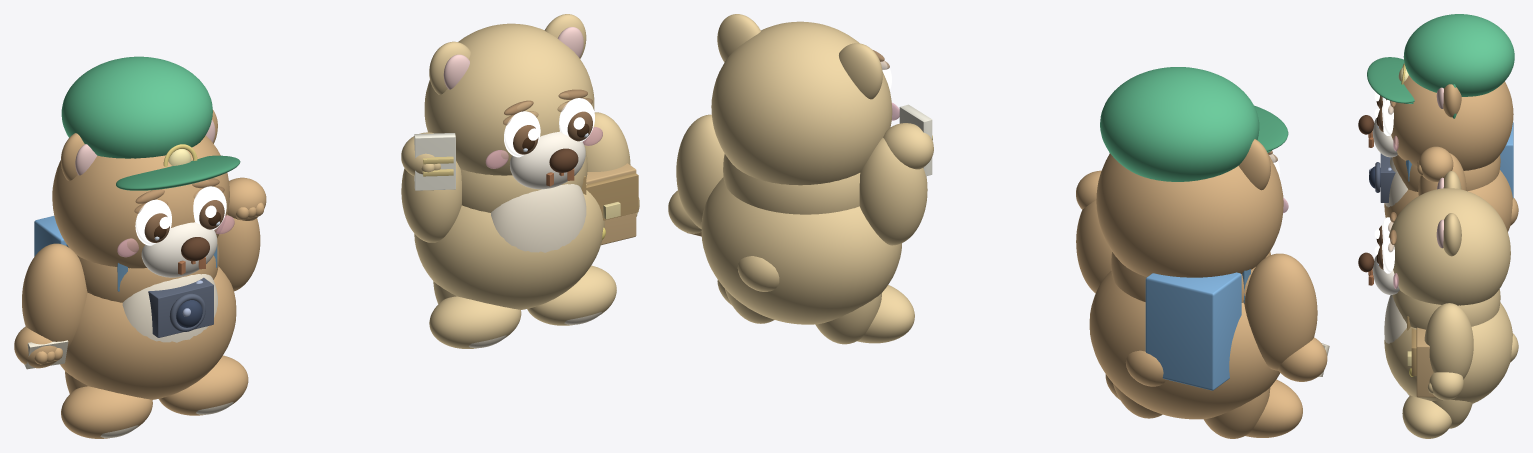
Rendered from quica-couple.glb.
3 renders of one model, left to right at view 1: azimuth 30°, elevation 25°; view 2: azimuth 150°, elevation 25°; view 3: azimuth 270°, elevation 25°, orthographic. The views are drawn at different scales.
Visible parts, largest first — view 1: Bhead, Acrown, Bbd_low, Abd_low, Ahead, AaL, Bbelly, BftL, AftL, BaL, AftR, BftR (+24 smaller); view 2: Bhead, Bbd_low, Ahead, Acrown, Abd_low, Abp, AaL, BaL, Bbd_up, BaR, AaR, BftL (+15 smaller); view 3: Bhead, Ahead, Acrown, Bbd_low, BaR, Bbd_up, BftR, Abd_low, Abrim, Abd_up, Bbag, AhR (+20 smaller).
Part boxes in pixels (box(x1,y1,x2,y2)): Bhead: box(424, 23, 594, 175); Acrown: box(61, 56, 212, 158); Bbd_low: box(414, 184, 604, 309); Abd_low: box(60, 266, 236, 399); Ahead: box(52, 135, 229, 268); AaL: box(22, 243, 87, 349); Bbelly: box(491, 184, 586, 252); BftL: box(429, 296, 521, 348); AftL: box(61, 386, 152, 438); BaL: box(401, 161, 461, 242); AftR: box(159, 355, 248, 415); BftR: box(527, 265, 616, 325); Bhead: box(711, 21, 892, 185); Bbd_low: box(701, 177, 901, 324); Ahead: box(1096, 153, 1283, 277); Acrown: box(1100, 67, 1259, 181); Abd_low: box(1089, 271, 1279, 419); Abp: box(1145, 272, 1241, 390); AaL: box(1244, 253, 1317, 370); BaL: box(859, 138, 927, 245); Bbd_up: box(723, 154, 860, 214); BaR: box(676, 114, 724, 228); AaR: box(1076, 200, 1112, 293); BftL: box(857, 285, 914, 343); Bhead: box(1389, 188, 1510, 305); Ahead: box(1386, 75, 1513, 170); Acrown: box(1403, 14, 1514, 96); Bbd_low: box(1384, 302, 1512, 403); BaR: box(1424, 303, 1473, 379); Bbd_up: box(1392, 289, 1500, 329); BftR: box(1402, 395, 1451, 438); Abd_low: box(1384, 170, 1512, 231); Abrim: box(1367, 57, 1414, 103); Abd_up: box(1392, 155, 1500, 191); Bbag: box(1416, 327, 1435, 397); AhR: box(1418, 146, 1453, 181).
Size of the model in its own units: 4.21 by 2.21 by 1.24.
